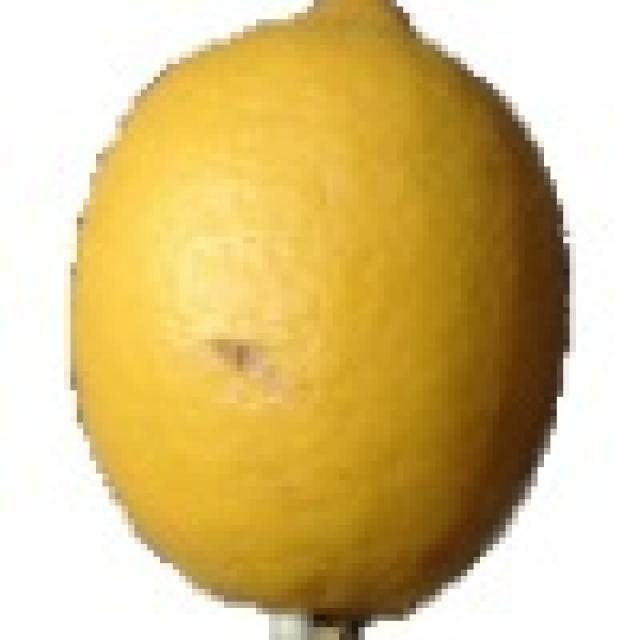lemon: (52, 5, 582, 623)
